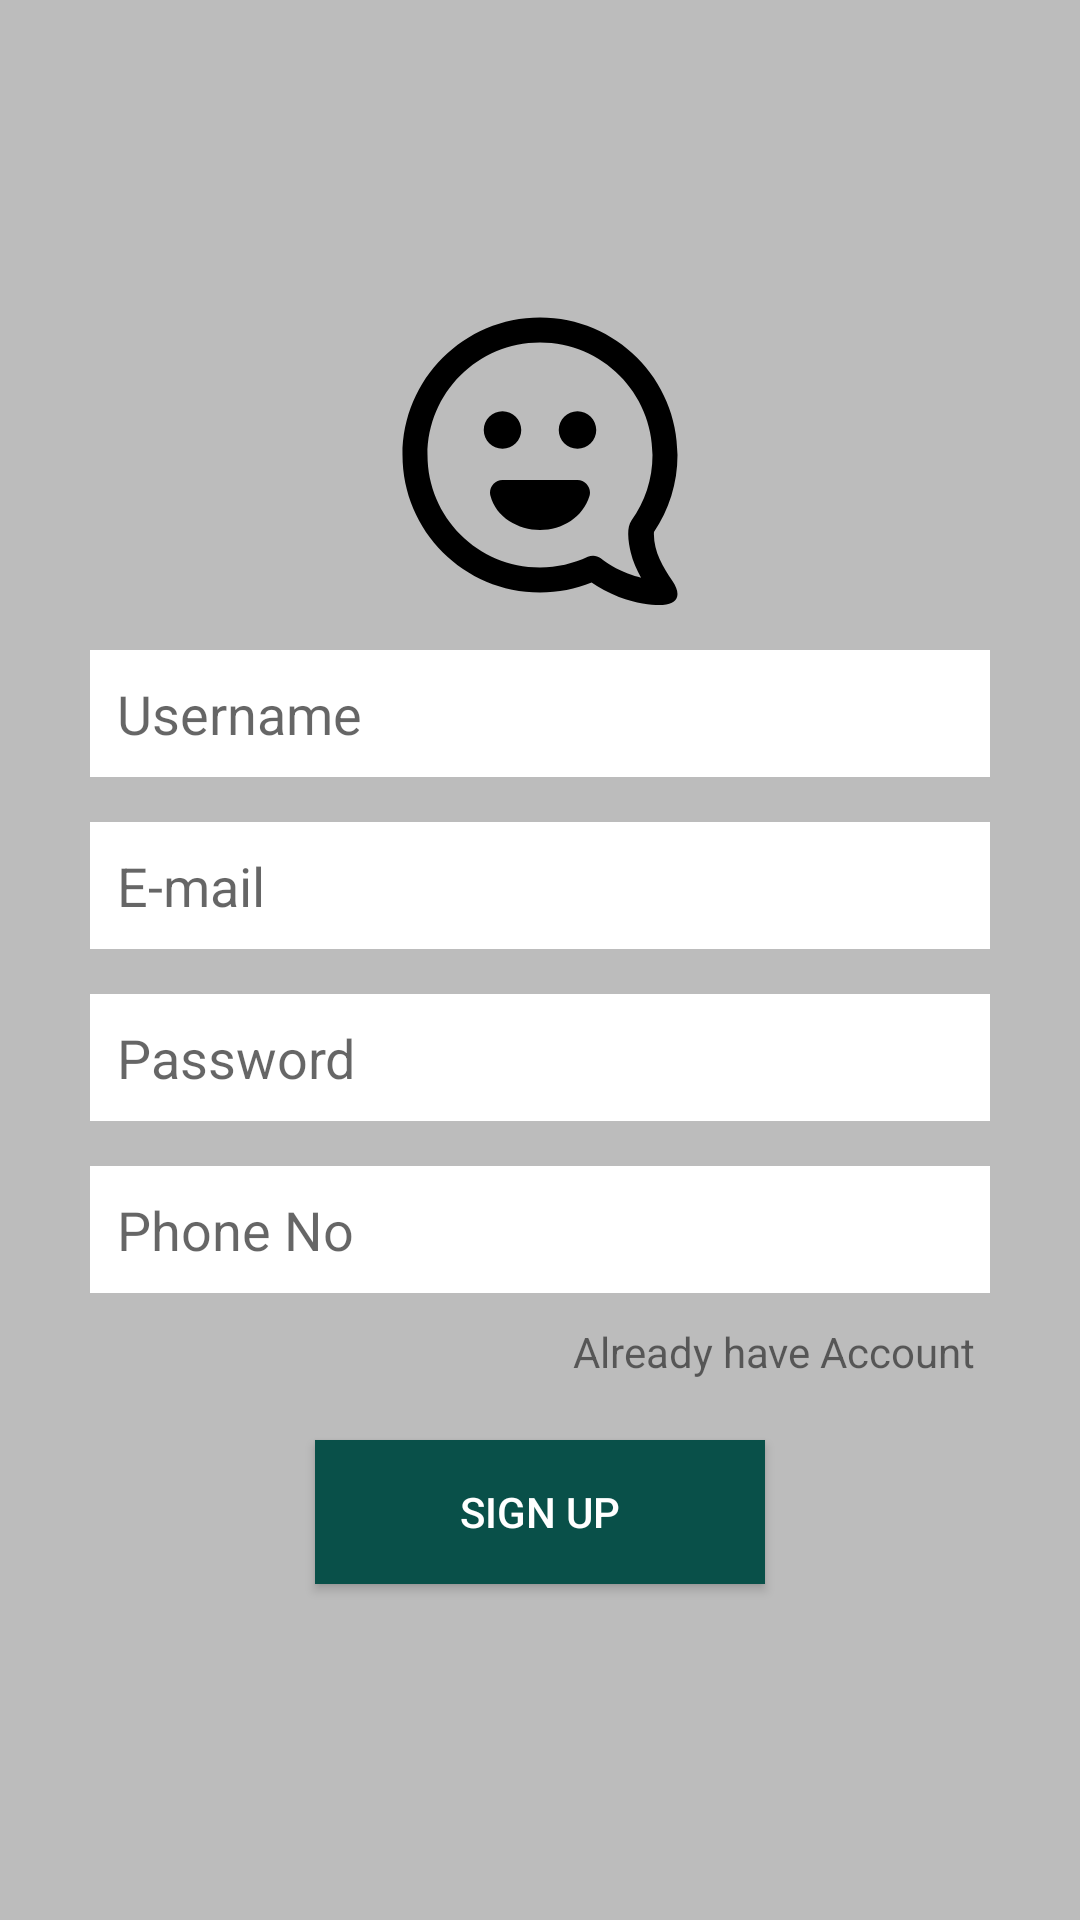

Screen size 1080*1920. Icon name, then its box in pixels as (x1, y1, x2, y2):
chat emoji: (402, 317, 678, 605)
